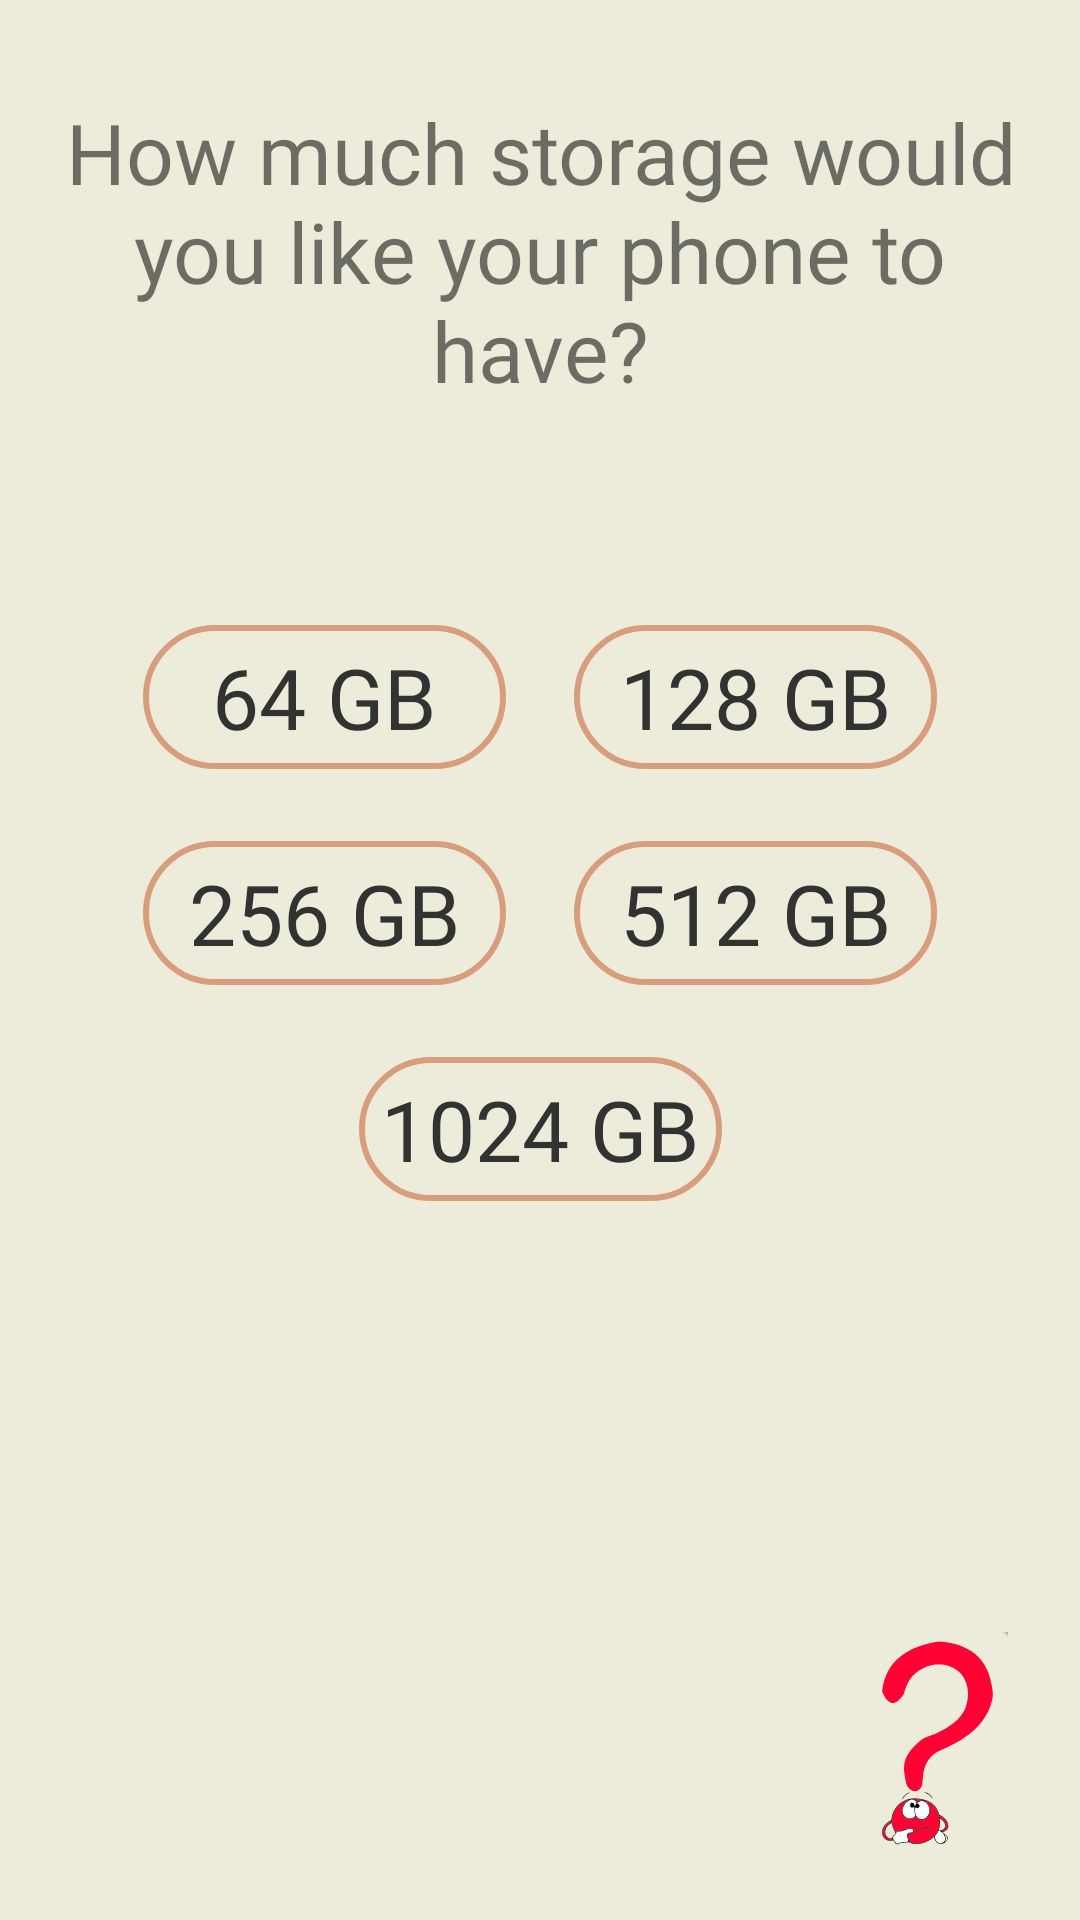

Point at icon controls on the screen. Image size 1080x1920, points as (x=x, y=y).
question mark: (x=945, y=1738)
